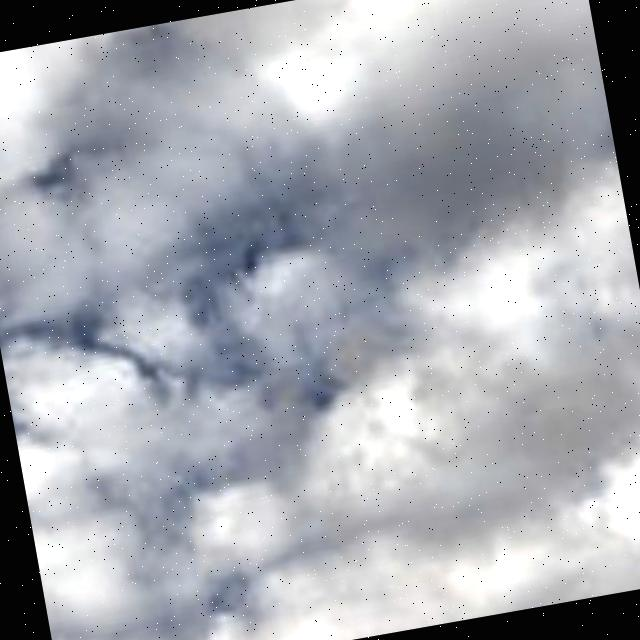Ac: (1, 1, 640, 603)
